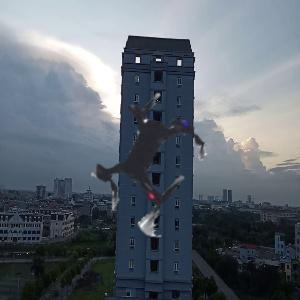drone: (49, 58, 258, 267)
